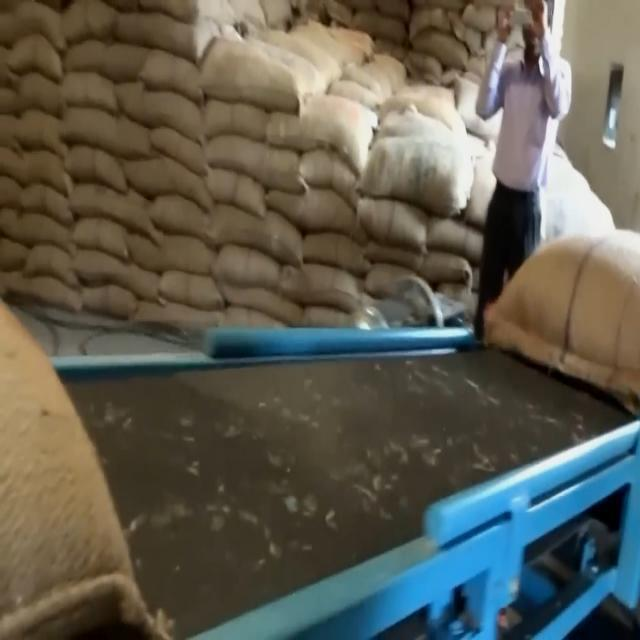gunny_bag: (0, 294, 167, 637), (476, 222, 640, 416), (352, 128, 484, 215), (194, 34, 328, 114), (266, 94, 386, 174), (202, 196, 306, 266), (203, 129, 312, 193), (112, 82, 208, 148), (268, 188, 373, 244), (124, 152, 213, 210), (357, 188, 432, 256), (275, 260, 365, 316), (69, 183, 157, 239), (136, 44, 208, 108), (126, 232, 221, 279), (62, 36, 154, 81), (0, 206, 76, 259), (214, 241, 286, 292), (410, 27, 473, 78), (52, 68, 120, 114), (23, 240, 84, 290), (408, 250, 474, 290), (12, 106, 70, 151), (5, 33, 62, 78), (57, 111, 123, 149), (19, 150, 73, 190)
